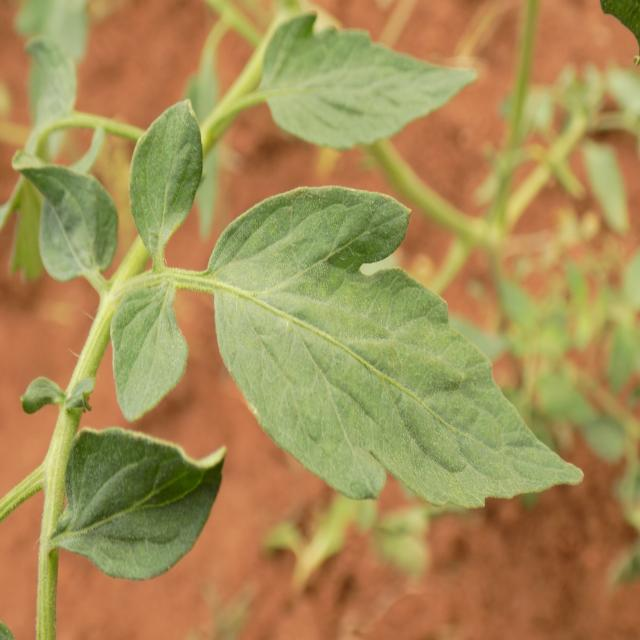tomato_healthy: (209, 187, 584, 505), (112, 100, 204, 422), (260, 13, 474, 149), (57, 429, 225, 578)
